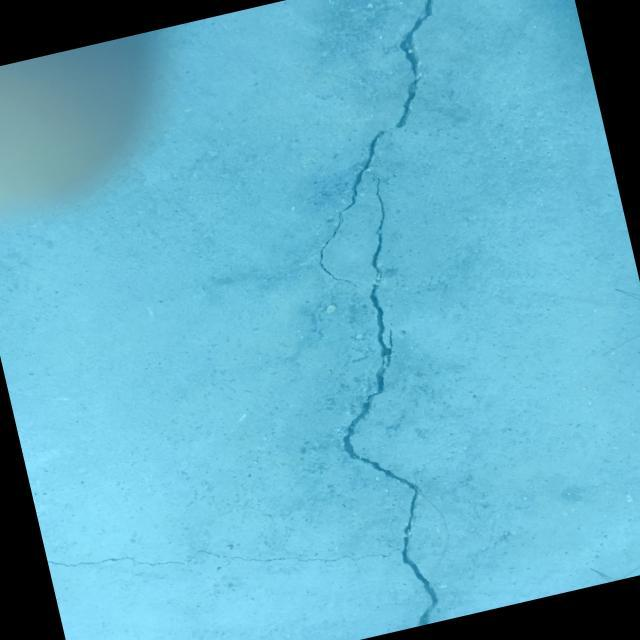crack: (0, 175, 481, 640), (291, 128, 420, 292), (360, 0, 460, 129)
